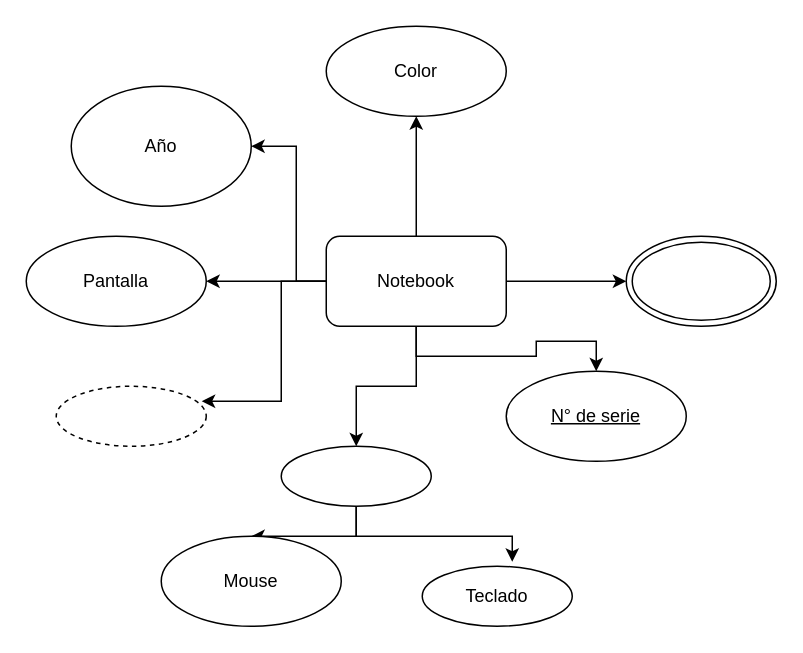
Image size: 803x653. Some labels were removed from this diagram. Each missing label, with the centre of its shape:
"Antigüedad" goes at point 130,415.
"Disco Duro" goes at point 700,280.
"Metodo de entrada" goes at point 355,475.
